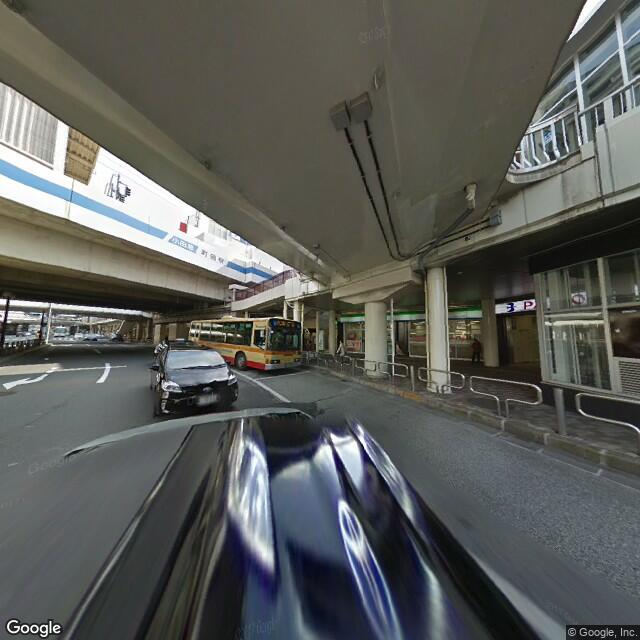family_mart: (340, 305, 485, 326)
